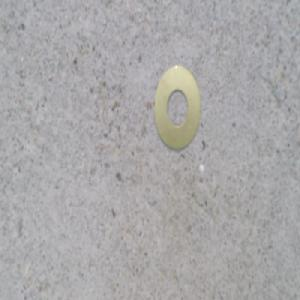Washer: (154, 63, 202, 150)
